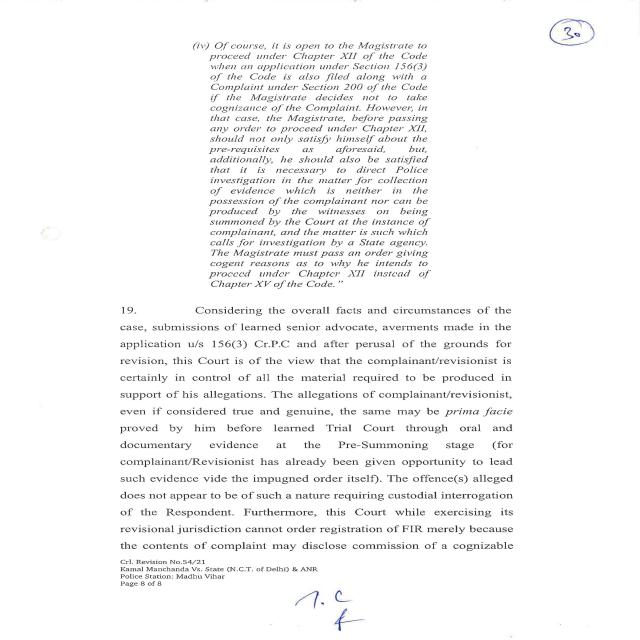page-number: (432, 2, 640, 244)
